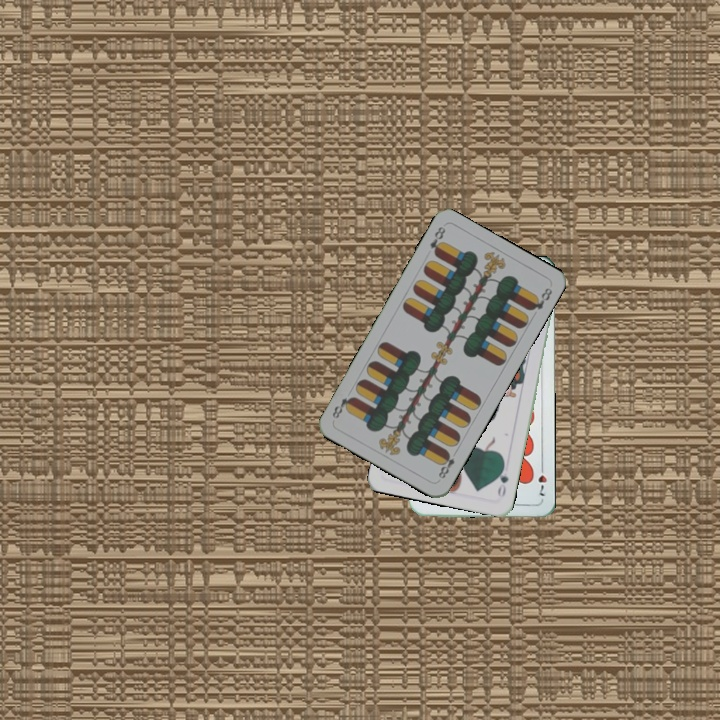E8: (434, 446, 460, 481), (426, 222, 448, 258)
GO: (494, 460, 511, 500)
H7: (534, 460, 549, 498)
